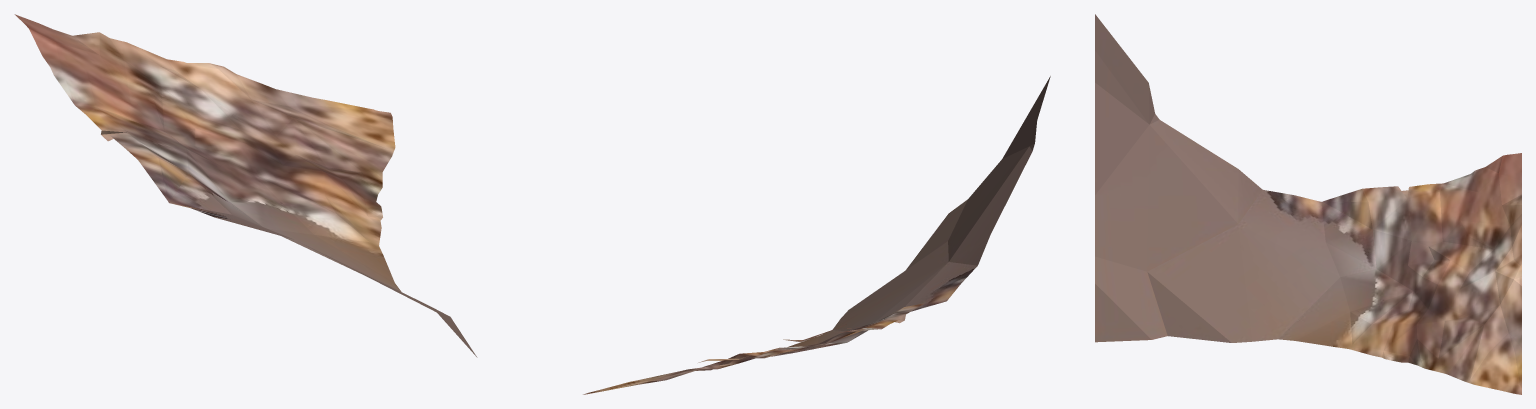
The picture shows the model from 3 angles, left to right: view 1: azimuth 30°, elevation 25°; view 2: azimuth 150°, elevation 25°; view 3: azimuth 270°, elevation 25°; orthographic projection. The views are drawn at different scales.
Size of the model in its own units: 1.1 by 1.14 by 1.67.
Materials: 1 (1 with a texture image).
